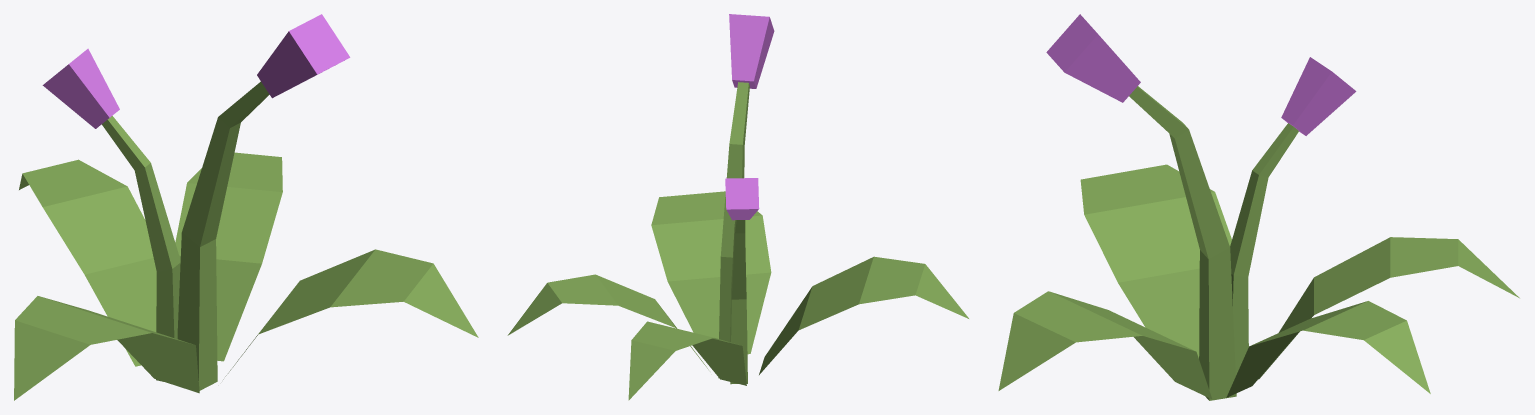
The model's file is Flower_Purple_2.fbx.
3 renders of one model, left to right at view 1: azimuth 30°, elevation 25°; view 2: azimuth 150°, elevation 25°; view 3: azimuth 270°, elevation 25°, orthographic. The views are drawn at different scales.
Parts seen in each view (by area): view 1: Flower_Purple_2; view 2: Flower_Purple_2; view 3: Flower_Purple_2.
Part boxes in pixels (left/top/right/bottom): Flower_Purple_2: left=14, top=14, right=478, bottom=400; Flower_Purple_2: left=507, top=14, right=968, bottom=400; Flower_Purple_2: left=998, top=14, right=1519, bottom=400.
Size of the model in its own units: 41.31 by 37.4 by 45.44.
